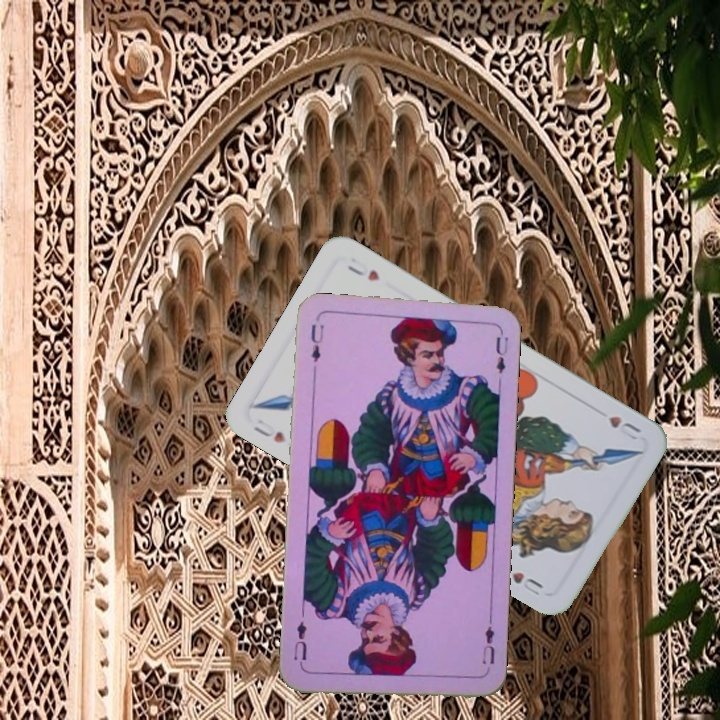EU: (478, 615, 497, 667), (307, 320, 327, 365)
HU: (604, 411, 645, 443), (250, 422, 289, 446)
